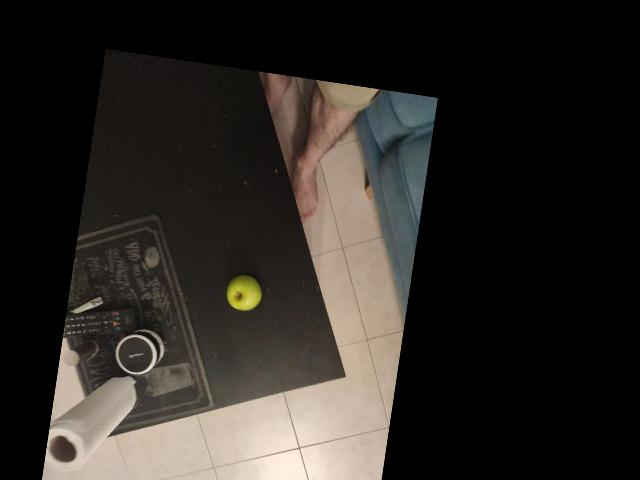apple: (220, 268, 263, 316)
